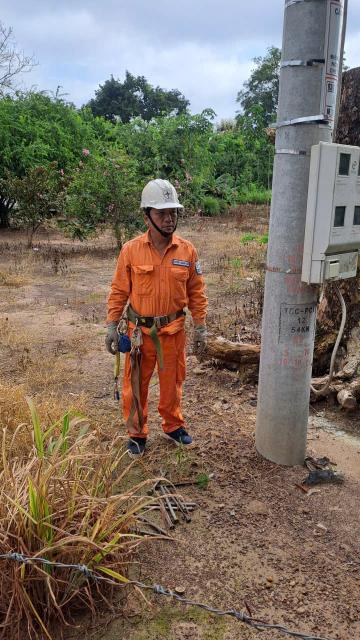gloves: (184, 322, 221, 361), (93, 312, 122, 361)
harness: (116, 294, 188, 328)
helmet: (139, 173, 189, 218)
shoes: (113, 423, 155, 464), (157, 420, 213, 448)
